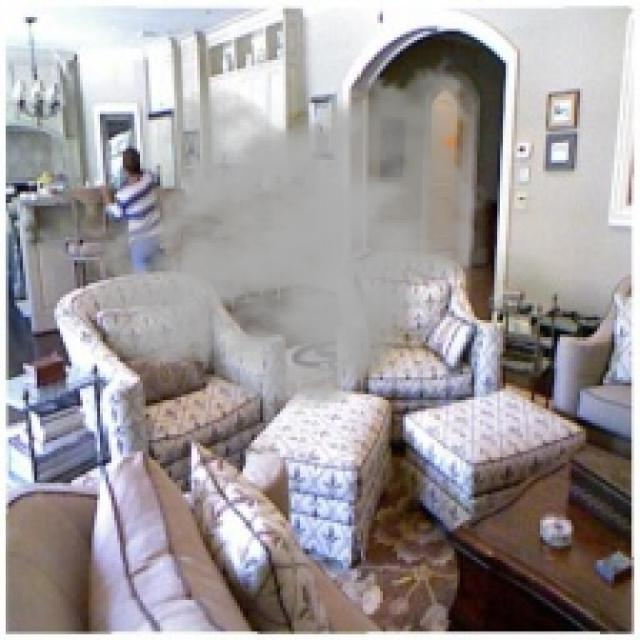smoke: (71, 51, 492, 412)
